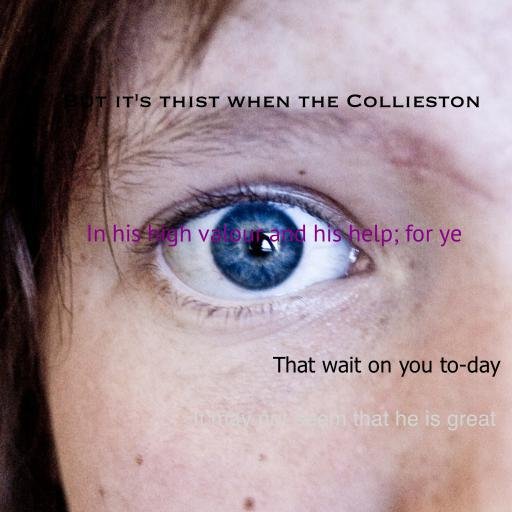Copperplate: (61, 94, 481, 108)
Helvetica: (192, 410, 496, 431)
PT Sans: (86, 224, 462, 247)
Tahoma: (273, 356, 501, 377)
